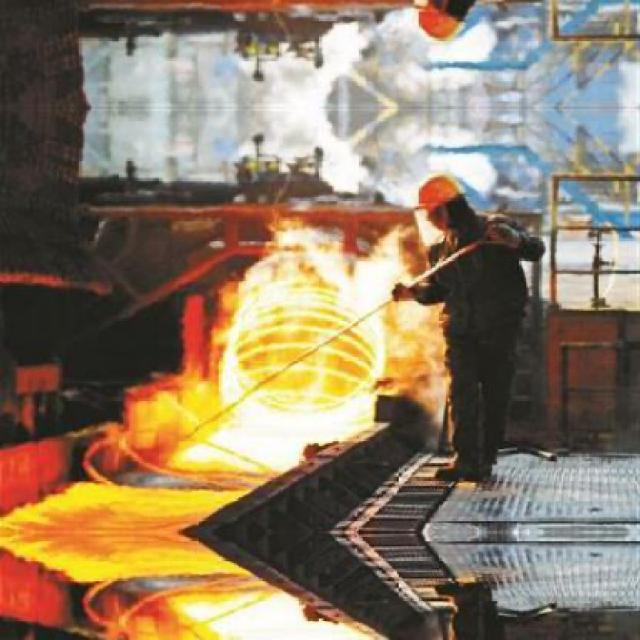helmet: (412, 166, 468, 225), (410, 0, 468, 48)
